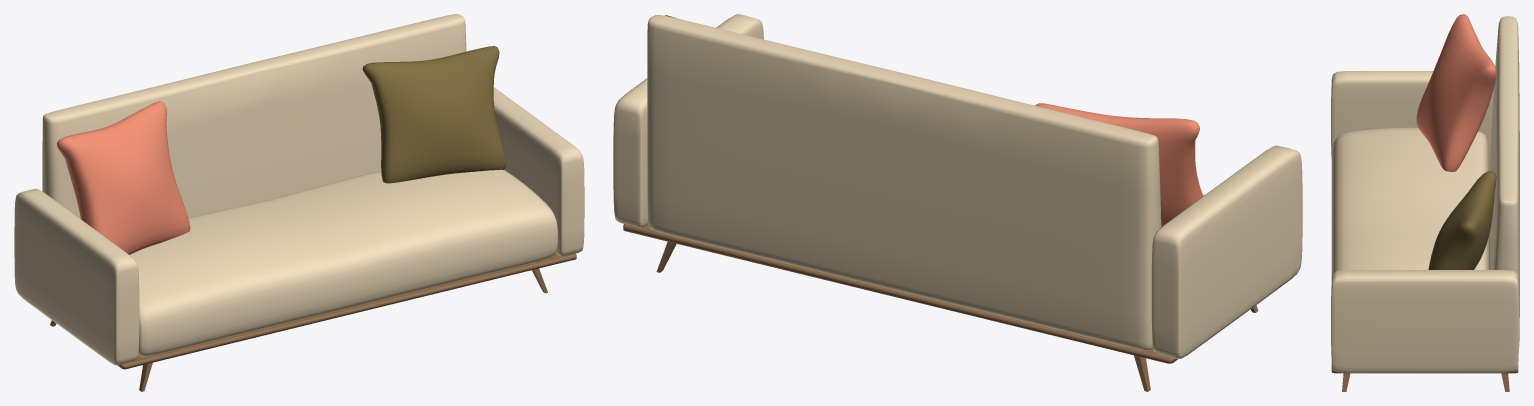
File: SmallSofaWithCushions.glb
The picture shows the model from 3 angles, left to right: view 1: azimuth 30°, elevation 25°; view 2: azimuth 150°, elevation 25°; view 3: azimuth 270°, elevation 25°; orthographic projection. The views are drawn at different scales.
Parts seen in each view (by area): view 1: SmallSofaWithCushions; view 2: SmallSofaWithCushions; view 3: SmallSofaWithCushions.
Boxes of the visible parts, <box> form: SmallSofaWithCushions: <box>14,14,584,391</box>; SmallSofaWithCushions: <box>613,14,1302,391</box>; SmallSofaWithCushions: <box>1331,14,1519,391</box>.
Bounding box in the file's own units: 2.62 × 1.12 × 0.9963.
Materials: 1 (1 with a texture image).
